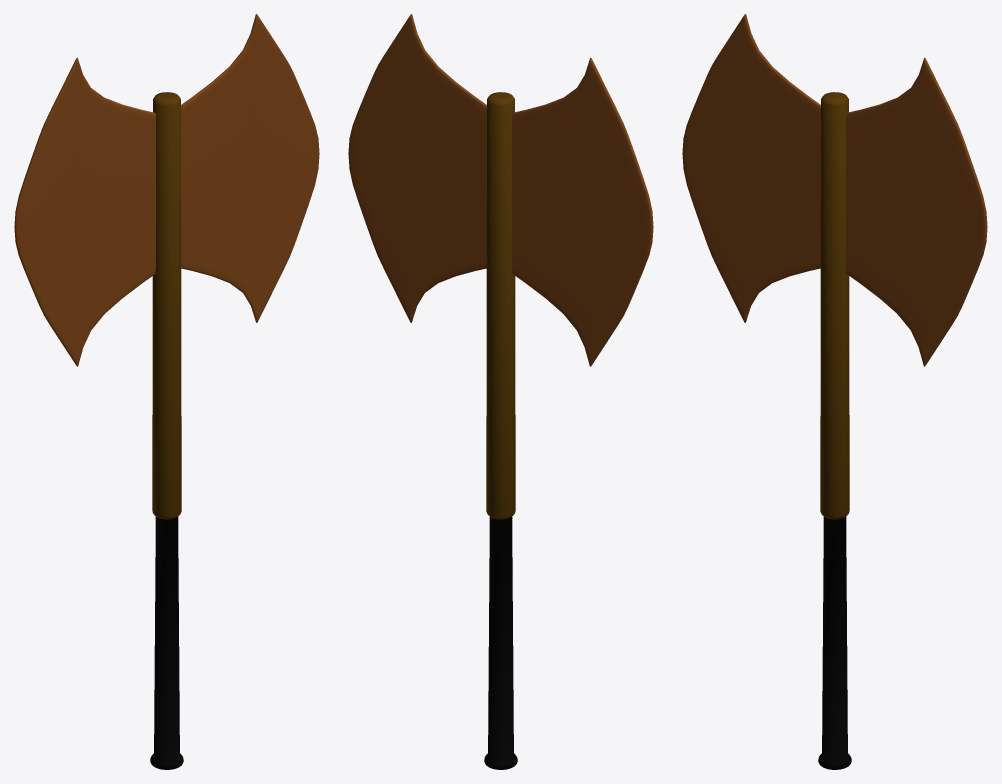
File: TwoHand_Axe_Rust.fbx
3 views of the same model, side by side, from view 1: azimuth 30°, elevation 25°; view 2: azimuth 150°, elevation 25°; view 3: azimuth 330°, elevation 25° (orthographic).
Visible parts, largest first — view 1: TwoHand_Axe_Rust; view 2: TwoHand_Axe_Rust; view 3: TwoHand_Axe_Rust.
Part boxes in pixels (x1,y1,x2,y2): TwoHand_Axe_Rust: (14, 14, 319, 769); TwoHand_Axe_Rust: (348, 14, 653, 769); TwoHand_Axe_Rust: (682, 14, 987, 769).
Bounding box in the file's own units: 546 × 1251 × 52.31.
